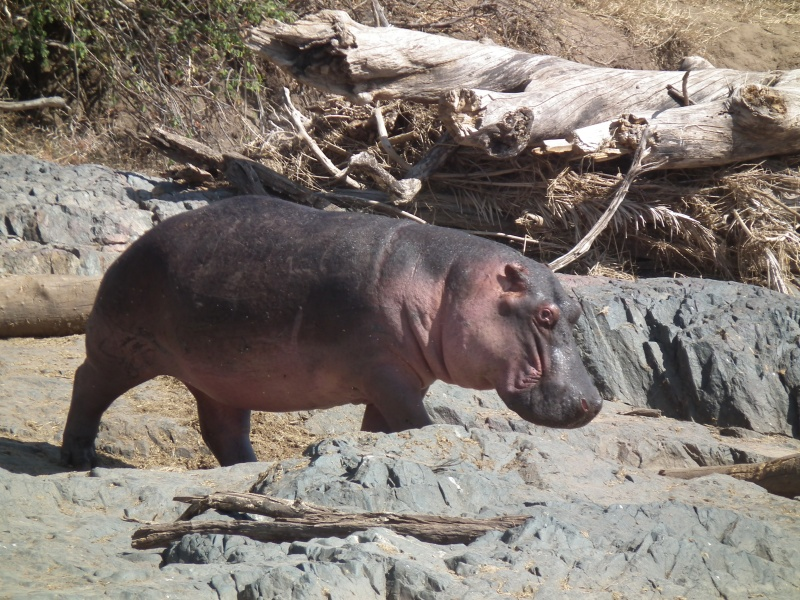hipopotamo: (57, 189, 619, 483)
